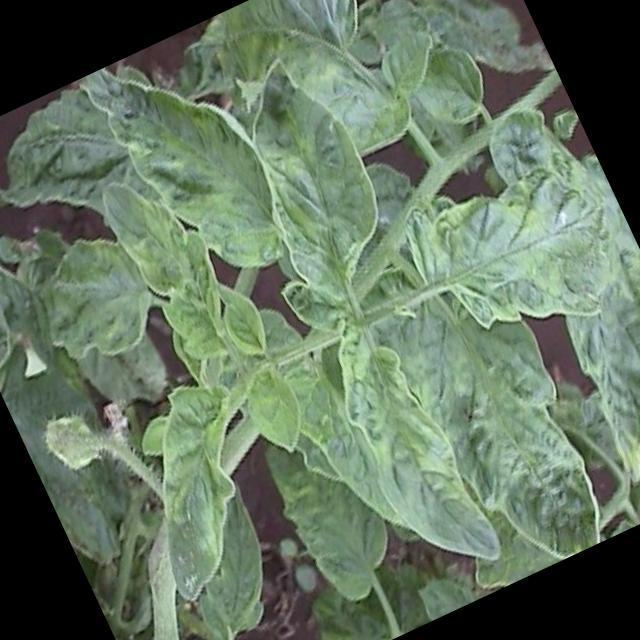Tomato mosaic virus leaf: (382, 257, 620, 584), (74, 33, 300, 315), (210, 46, 416, 322), (316, 318, 510, 596), (403, 148, 632, 368), (101, 373, 302, 612), (94, 156, 247, 374), (10, 226, 169, 382), (231, 356, 316, 464), (366, 19, 446, 100)
